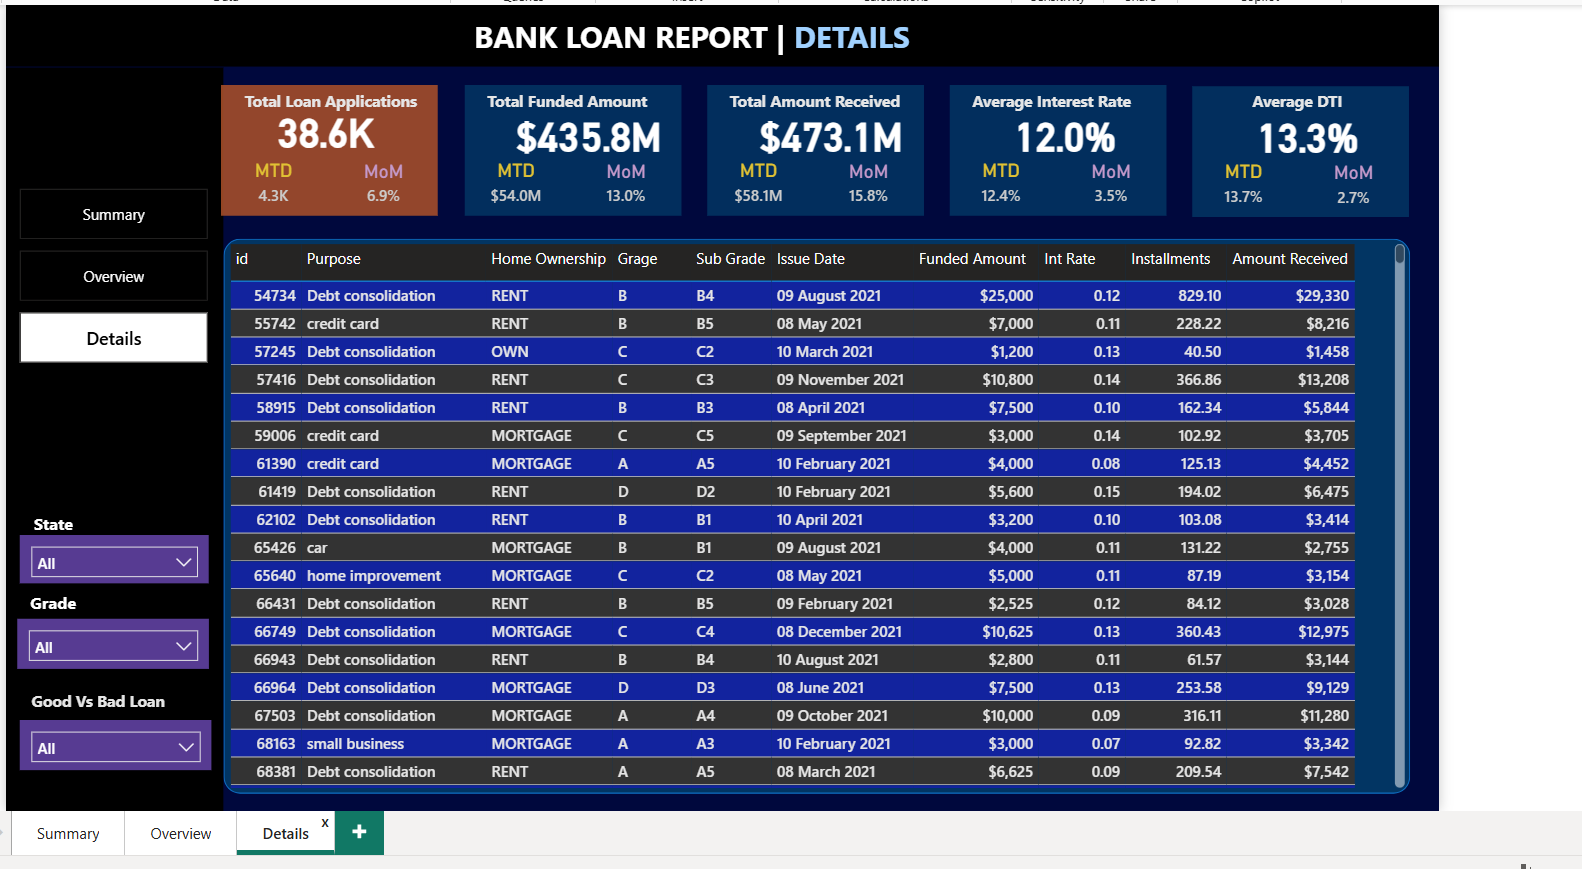

The page's visual inventory and layout, read from the dashboard file:
{"tool":"powerbi","page":{"name":"Details","canvas":[1280,720],"ordinal":2},"visuals":[{"type":"shape","box":[0,55.5,194.2,664.5],"z":0},{"type":"shape","box":[410.2,71.3,193.7,117],"z":0,"group":"g3"},{"type":"shape","box":[626.7,71.3,193.7,117],"z":0,"group":"g4"},{"type":"shape","box":[843.2,71.3,193.7,117],"z":0,"group":"g5"},{"type":"shape","box":[192.3,71.4,193.7,117],"z":0,"group":"g1"},{"type":"shape","box":[1059.7,71.9,193.7,117],"z":0,"group":"g6"},{"type":"shape","box":[0,0,1280.3,55],"z":1000},{"type":"card","fields":{"Values":["bank_loan_data.Total Loan Application"]},"box":[228.8,76.7,113.6,69.9],"z":1000,"group":"g1"},{"type":"card","fields":{"Values":["bank_loan_data.Total Funded Amount"]},"box":[447.1,82,147.9,64.6],"z":1000,"group":"g3"},{"type":"card","fields":{"Values":["bank_loan_data.Total Amount Received"]},"box":[663.6,82,147.9,64.6],"z":1000,"group":"g4"},{"type":"card","fields":{"Values":["bank_loan_data.Avg Interest Rate"]},"box":[872.1,82.5,147.9,64.6],"z":1000,"group":"g5"},{"type":"card","fields":{"Values":["bank_loan_data.Avg DTI"]},"box":[1088.6,83.1,147.9,64.6],"z":1000,"group":"g6"},{"type":"textbox","box":[204.7,71.3,197.8,40.3],"z":2000,"group":"g1"},{"type":"textbox","box":[420.9,71.3,197.8,40.3],"z":2000,"group":"g3"},{"type":"textbox","box":[637.4,71.3,197.8,40.3],"z":2000,"group":"g4"},{"type":"textbox","box":[853.9,71.3,197.8,40.3],"z":2000,"group":"g5"},{"type":"textbox","box":[1070.1,71.3,169.4,40.3],"z":2000,"group":"g6"},{"type":"textbox","box":[12.1,447.4,95.3,31.4],"z":2000,"group":"g7"},{"type":"textbox","box":[12.1,517.4,83.2,31.4],"z":2000},{"type":"card","title":"MTD","fields":{"Values":["bank_loan_data.MTD Loan Applications"]},"box":[204.7,137.2,69.5,51.1],"z":3000,"group":"g1"},{"type":"card","title":"MTD","fields":{"Values":["bank_loan_data.MTD Funded Applications"]},"box":[420.9,137.2,69.5,51.1],"z":3000,"group":"g3"},{"type":"card","title":"MTD","fields":{"Values":["bank_loan_data.MTD Total Amount Received"]},"box":[637.4,137.2,69.5,51.1],"z":3000,"group":"g4"},{"type":"card","title":"MTD","fields":{"Values":["bank_loan_data.MTD Average Interest Rate"]},"box":[853.9,137.2,69.5,51.1],"z":3000,"group":"g5"},{"type":"card","title":"MTD","fields":{"Values":["bank_loan_data.MTD Average DTI"]},"box":[1070.4,137.8,69.5,51.1],"z":3000,"group":"g6"},{"type":"textbox","box":[9.6,607.8,156.8,31.4],"z":3000},{"type":"group","id":"g1","title":"Group 2","box":[192.3,71.3,210.2,117.1],"z":3005,"group":"g2"},{"type":"card","title":"MoM","fields":{"Values":["bank_loan_data.MoM Loan Applications"]},"box":[303,138.2,69.5,49.8],"z":4000,"group":"g1"},{"type":"card","title":"MoM","fields":{"Values":["bank_loan_data.MoM Total Funded Amount"]},"box":[519.1,138.2,69.5,49.8],"z":4000,"group":"g3"},{"type":"card","title":"MoM","fields":{"Values":["bank_loan_data.MoM Total Amount Received"]},"box":[735.6,138.2,69.5,49.8],"z":4000,"group":"g4"},{"type":"card","title":"MoM","fields":{"Values":["bank_loan_data.MoM Average Interest Rate"]},"box":[952.1,138.2,69.5,49.8],"z":4000,"group":"g5"},{"type":"card","title":"MoM","fields":{"Values":["bank_loan_data.MoM Average DTI"]},"box":[1168.6,138.9,69.5,49.8],"z":4000,"group":"g6"},{"type":"shape","box":[194.2,208.6,1060.1,495.7],"z":4000},{"type":"textbox","box":[412.9,4,520.4,45.7],"z":5000},{"type":"group","id":"g2","title":"Group 1","box":[192.3,71.3,210.2,117.1],"z":6000},{"type":"group","id":"g3","title":"Group 2","box":[410.2,71.3,208.4,117],"z":7000},{"type":"group","id":"g4","title":"Group 2","box":[626.7,71.3,208.4,117],"z":8000},{"type":"group","id":"g5","title":"Group 2","box":[843.2,71.3,208.4,117],"z":9000},{"type":"group","id":"g6","title":"Group 2","box":[1059.7,71.3,193.7,117],"z":10000},{"type":"slicer","fields":{"Values":["bank_loan_data.address_state"]},"box":[12.1,474,168.8,43.4],"z":11000},{"type":"slicer","fields":{"Values":["bank_loan_data.grade"]},"box":[9.6,548.7,171.3,44.6],"z":12000},{"type":"slicer","fields":{"Values":["bank_loan_data.Good Vs Bad Loan"]},"box":[12.1,639.2,171.3,44.6],"z":13000},{"type":"group","id":"g7","title":"Group 2","box":[12.1,447.4,95.3,31.4],"z":14000},{"type":"tableEx","fields":{"Values":["bank_loan_data.id","bank_loan_data.purpose","bank_loan_data.home_ownership","bank_loan_data.grade","bank_loan_data.sub_grade","bank_loan_data.issue_date","bank_loan_data.Total Funded Amount","Sum(bank_loan_data.int_rate)","Sum(bank_loan_data.installment)","bank_loan_data.Total Amount Received"]},"box":[194.2,208.6,1060.1,495.7],"z":15000},{"type":"pageNavigator","box":[12.1,164,168.8,158],"z":16000}]}

Visuals, with their boxes on the page's 1280x720 design canvas (x1, y1, x2, y2). These are canvas units, not pixel positions in the 1582x869 screenshot, which may show the page scaled, cropped or inside an application window:
shape: l=0, t=56, r=194, b=720
shape: l=410, t=71, r=604, b=188
shape: l=627, t=71, r=820, b=188
shape: l=843, t=71, r=1037, b=188
shape: l=192, t=71, r=386, b=188
shape: l=1060, t=72, r=1253, b=189
shape: l=0, t=0, r=1280, b=55
card - bank_loan_data.Total Loan Application: l=229, t=77, r=342, b=147
card - bank_loan_data.Total Funded Amount: l=447, t=82, r=595, b=147
card - bank_loan_data.Total Amount Received: l=664, t=82, r=812, b=147
card - bank_loan_data.Avg Interest Rate: l=872, t=82, r=1020, b=147
card - bank_loan_data.Avg DTI: l=1089, t=83, r=1236, b=148
textbox: l=205, t=71, r=402, b=112
textbox: l=421, t=71, r=619, b=112
textbox: l=637, t=71, r=835, b=112
textbox: l=854, t=71, r=1052, b=112
textbox: l=1070, t=71, r=1240, b=112
textbox: l=12, t=447, r=107, b=479
textbox: l=12, t=517, r=95, b=549
"MTD" card: l=205, t=137, r=274, b=188
"MTD" card: l=421, t=137, r=490, b=188
"MTD" card: l=637, t=137, r=707, b=188
"MTD" card: l=854, t=137, r=923, b=188
"MTD" card: l=1070, t=138, r=1140, b=189
textbox: l=10, t=608, r=166, b=639
"Group 2" group: l=192, t=71, r=402, b=188
"MoM" card: l=303, t=138, r=372, b=188
"MoM" card: l=519, t=138, r=589, b=188
"MoM" card: l=736, t=138, r=805, b=188
"MoM" card: l=952, t=138, r=1022, b=188
"MoM" card: l=1169, t=139, r=1238, b=189
shape: l=194, t=209, r=1254, b=704
textbox: l=413, t=4, r=933, b=50
"Group 1" group: l=192, t=71, r=402, b=188
"Group 2" group: l=410, t=71, r=619, b=188
"Group 2" group: l=627, t=71, r=835, b=188
"Group 2" group: l=843, t=71, r=1052, b=188
"Group 2" group: l=1060, t=71, r=1253, b=188
slicer - bank_loan_data.address_state: l=12, t=474, r=181, b=517
slicer - bank_loan_data.grade: l=10, t=549, r=181, b=593
slicer - bank_loan_data.Good Vs Bad Loan: l=12, t=639, r=183, b=684
"Group 2" group: l=12, t=447, r=107, b=479
tableEx - bank_loan_data.id x bank_loan_data.purpose: l=194, t=209, r=1254, b=704
pageNavigator: l=12, t=164, r=181, b=322
